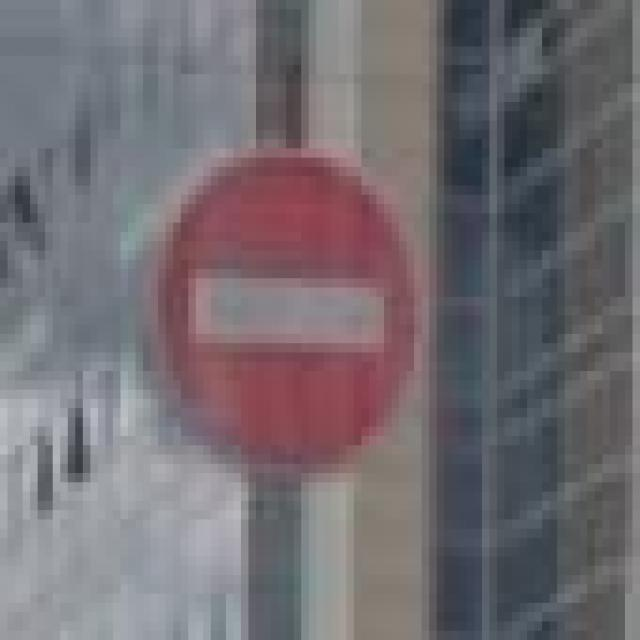Zakaz wjazdu: (143, 139, 429, 492)
